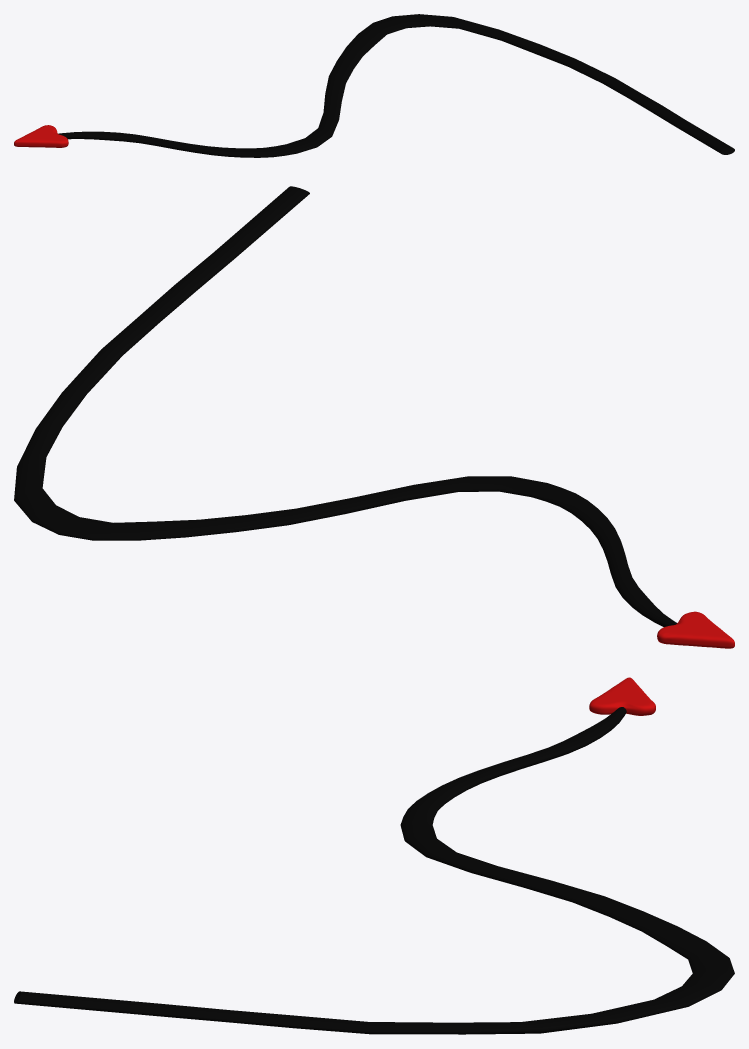
File: queue_diable.FBX
3 views of the same model, one above another, from view 1: azimuth 30°, elevation 25°; view 2: azimuth 150°, elevation 25°; view 3: azimuth 270°, elevation 25° (orthographic). The views are drawn at different scales.
Parts seen in each view (by area): view 1: Cylindre001, Prisme001; view 2: Cylindre001, Prisme001; view 3: Cylindre001, Prisme001.
Part boxes in pixels (bbox=[...]): Cylindre001: bbox=[58, 14, 734, 157]; Prisme001: bbox=[14, 125, 68, 147]; Cylindre001: bbox=[14, 186, 676, 626]; Prisme001: bbox=[657, 611, 734, 648]; Cylindre001: bbox=[14, 707, 734, 1034]; Prisme001: bbox=[589, 677, 655, 715].
Size of the model in its own units: 1803 by 107 by 1522.
